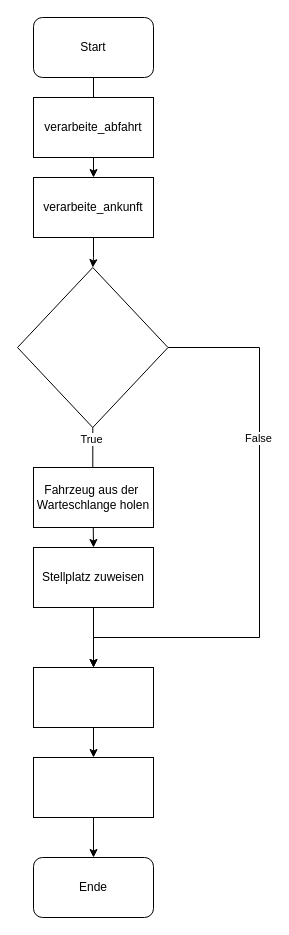
The diagram is 289 pixels wide and 935 high, and some of its shapes have lost their labels. Each missing label, with the centre of its shape:
Statistiken ausgeben: point 93,787
Statistiken berechnen: point 93,697
Warteschlange leer & Stellplatz frei: point 92,347
